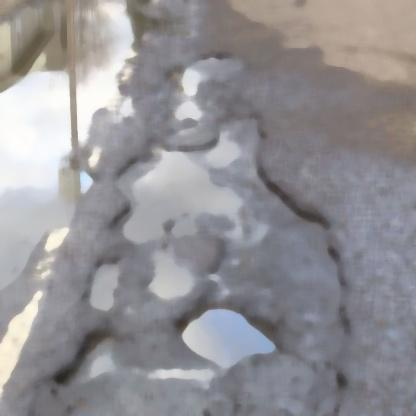Potholes: (123, 126, 244, 244), (174, 300, 282, 364), (62, 332, 121, 392), (174, 49, 224, 108), (143, 244, 195, 299), (90, 250, 120, 314)
